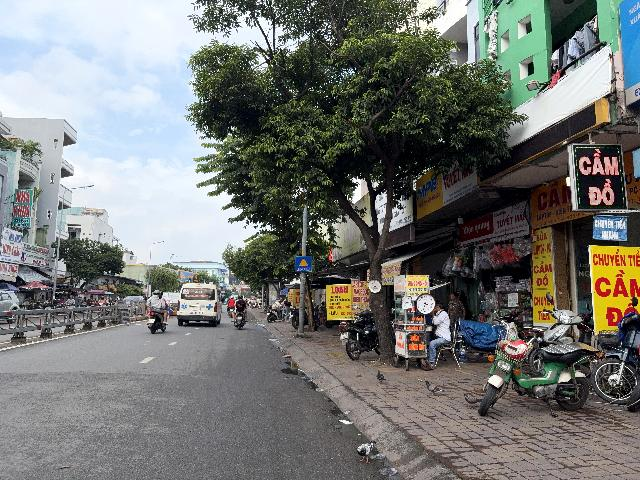khu-vuc-cho-phia-truoc: (295, 256, 312, 272)
